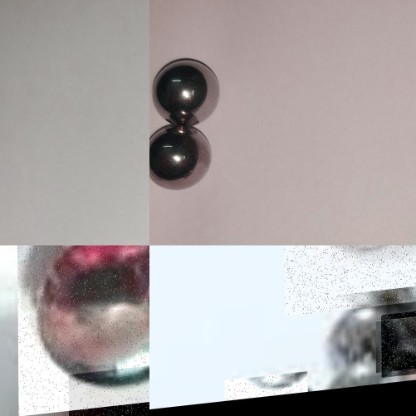ironball: (16, 245, 149, 415), (283, 245, 415, 322), (151, 54, 231, 123), (146, 120, 212, 189), (68, 373, 149, 415), (380, 318, 415, 386), (223, 377, 306, 405)
